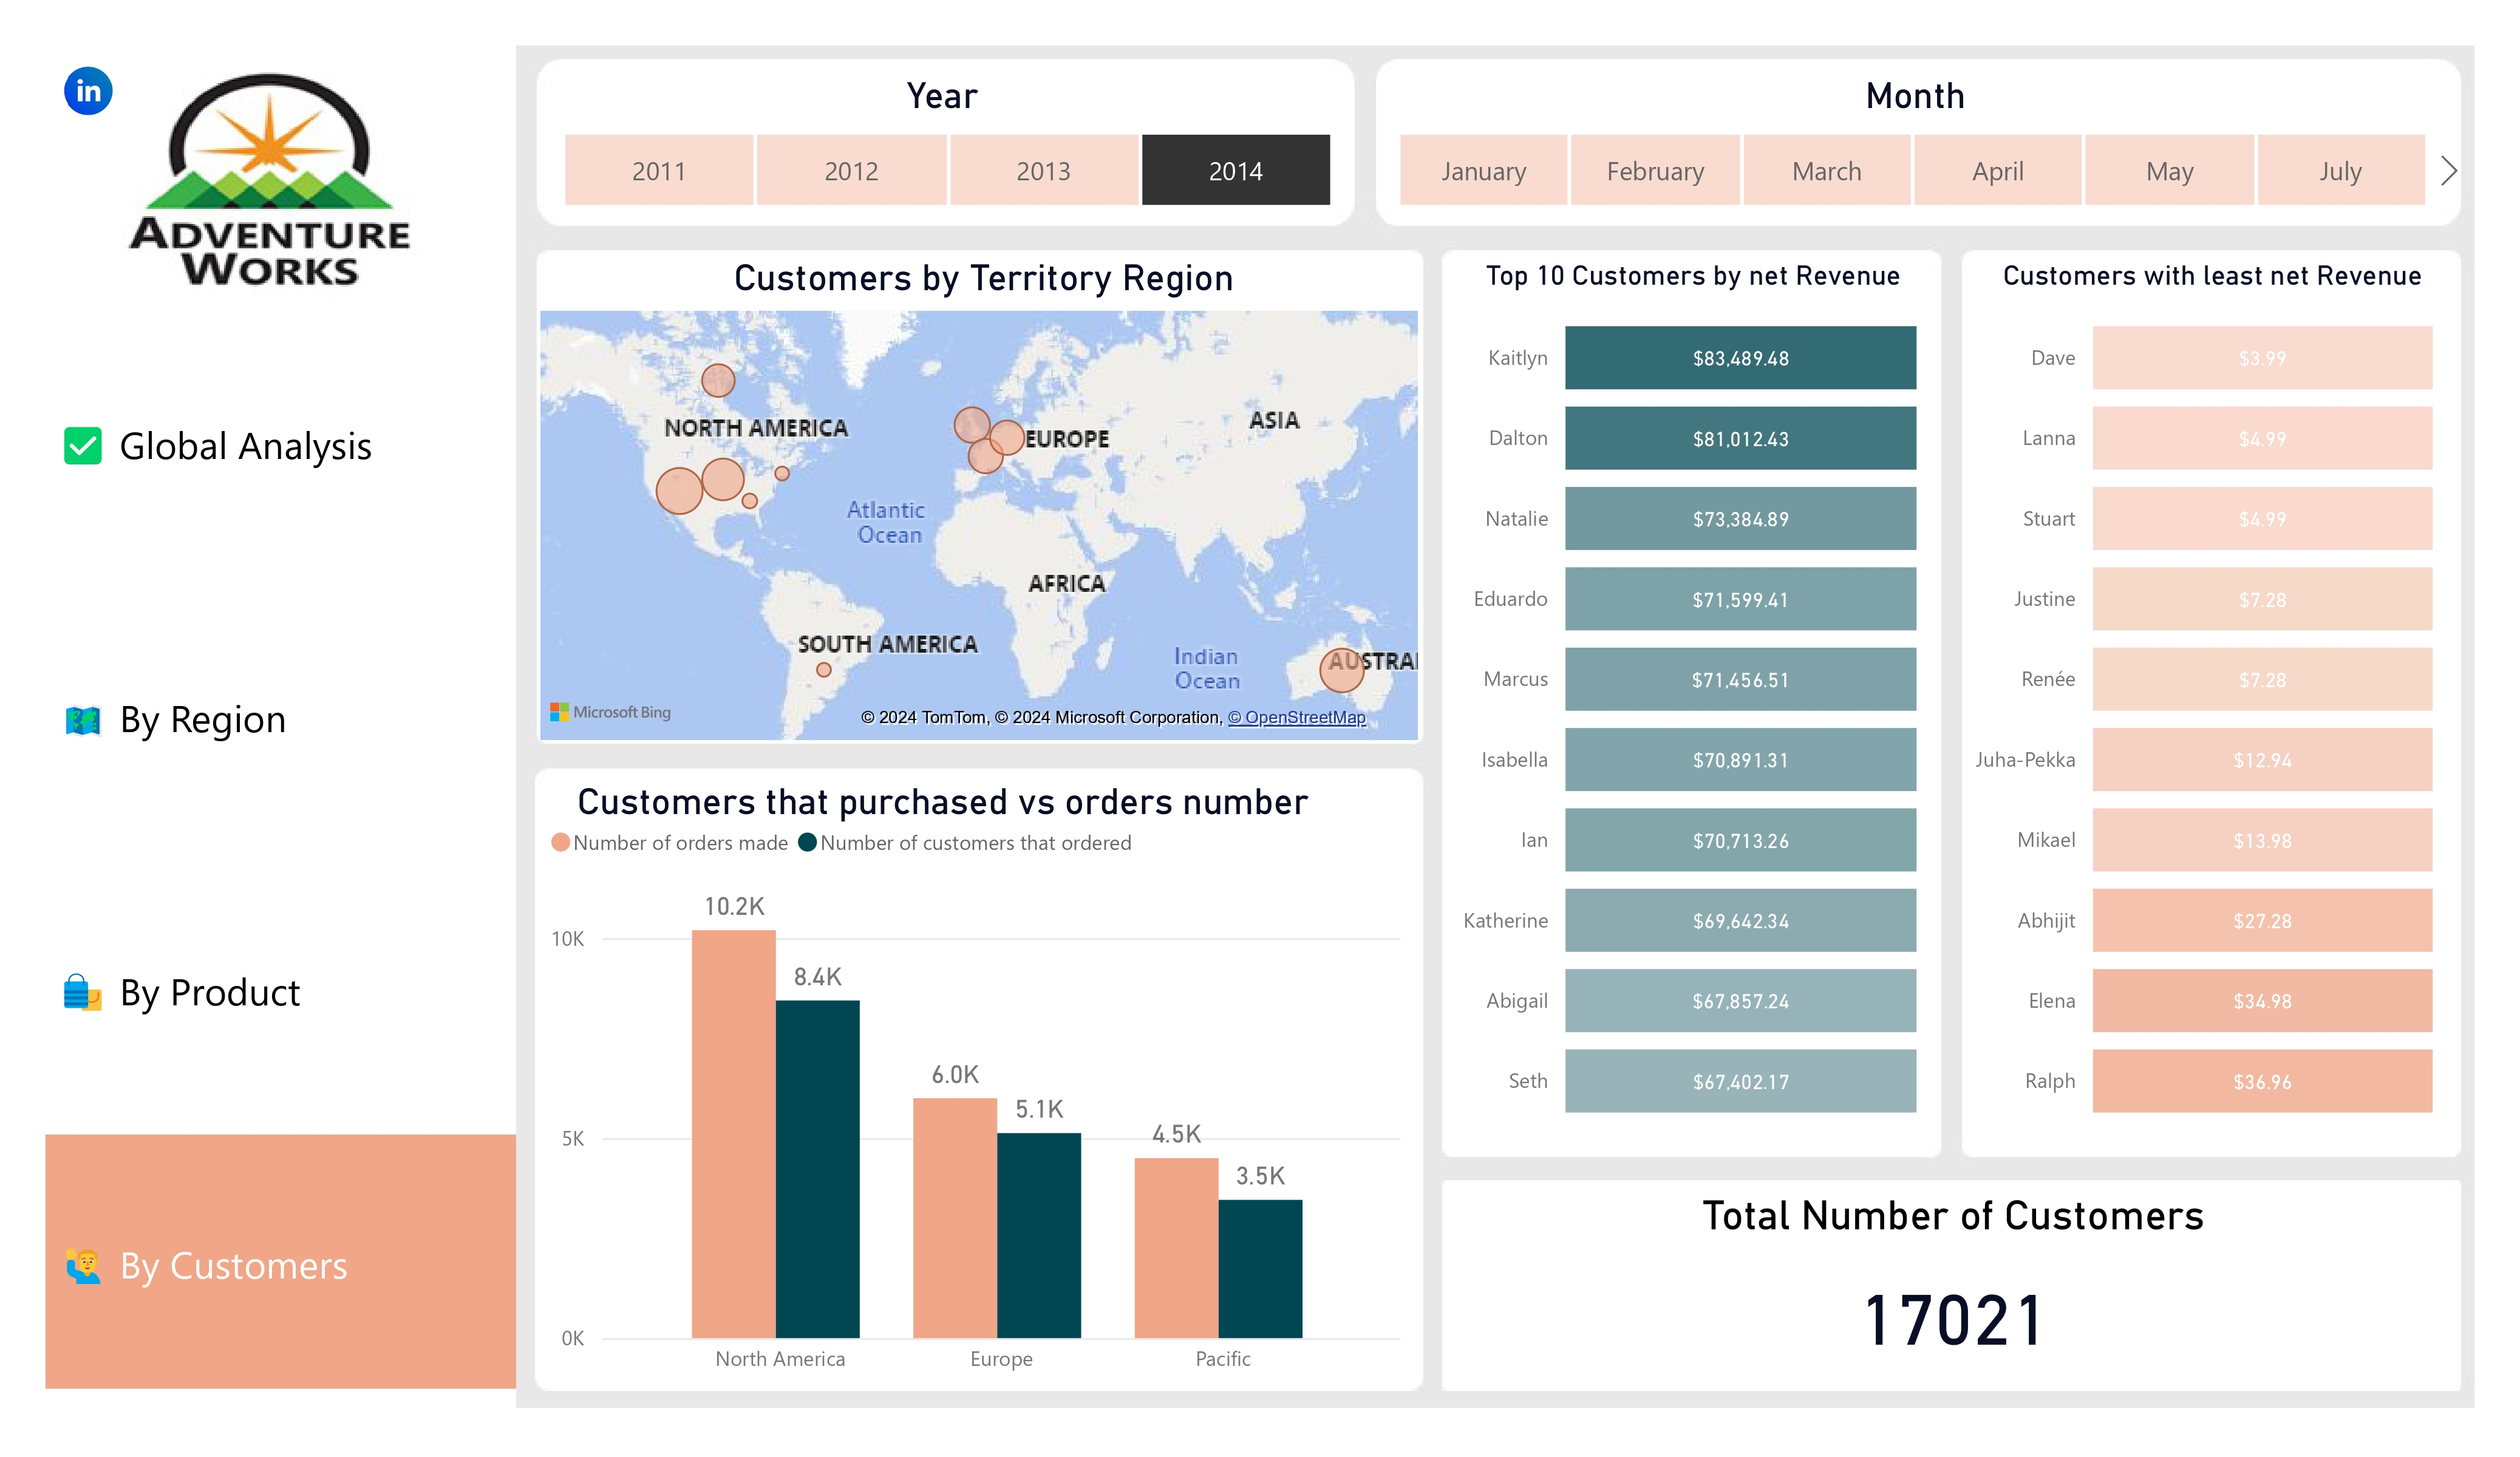

The page's visual inventory and layout, read from the dashboard file:
{"tool":"powerbi","page":{"name":"🙋♂️ By Customers","canvas":[1280,720],"ordinal":3},"visuals":[{"type":"map","fields":{"Size":["FactInternetSales.CustomerKey"],"Category":["DimSalesTerritory.SalesTerritoryRegion"]},"box":[256,135,472,236],"z":0},{"type":"clusteredColumnChart","fields":{"Category":["DimSalesTerritory.SalesTerritoryGroup"],"Y":["FactInternetSales.SalesOrderNumber","FactInternetSales.CustomerKey"]},"box":[261,401,458,309],"z":1000},{"type":"hundredPercentStackedBarChart","fields":{"Y":["FactInternetSales.Total Sales"],"Category":["DimCustomer.FirstName"]},"box":[737,118,254,467],"z":2000},{"type":"hundredPercentStackedBarChart","fields":{"Y":["FactInternetSales.Total Sales"],"Category":["DimCustomer.FirstName"]},"box":[1006,118,257,467],"z":3000},{"type":"card","title":"Total Number of Customers","fields":{"Values":["FactInternetSales.CustomerKey"]},"box":[741,604,529,104],"z":4000},{"type":"slicer","fields":{"Values":["DimDate.FiscalYear"]},"box":[248,40,453,51],"z":5000},{"type":"slicer","fields":{"Values":["DimDate.EnglishMonthName"]},"box":[688,40,590,51],"z":6000},{"type":"pageNavigator","box":[0,142,248,568],"z":7000},{"type":"textbox","box":[260,10,425,37],"z":8000},{"type":"textbox","box":[701,10,569,37],"z":9000},{"type":"textbox","box":[218,382,510,37],"z":10000},{"type":"textbox","box":[261,106,467,36],"z":11000},{"type":"textbox","box":[734,106,269,36],"z":12000},{"type":"textbox","box":[1006,106,272,36],"z":13000},{"type":"image","box":[0,0,45.5,47.3],"z":14000}]}

Visuals, with their boxes on the page's 1280x720 design canvas (x1, y1, x2, y2). These are canvas units, not pixel positions in the 2520x1457 screenshot, which may show the page scaled, cropped or inside an application window:
map - FactInternetSales.CustomerKey x DimSalesTerritory.SalesTerritoryRegion: detection(256, 135, 728, 371)
clusteredColumnChart - DimSalesTerritory.SalesTerritoryGroup x FactInternetSales.SalesOrderNumber: detection(261, 401, 719, 710)
hundredPercentStackedBarChart - FactInternetSales.Total Sales x DimCustomer.FirstName: detection(737, 118, 991, 585)
hundredPercentStackedBarChart - FactInternetSales.Total Sales x DimCustomer.FirstName: detection(1006, 118, 1263, 585)
"Total Number of Customers" card: detection(741, 604, 1270, 708)
slicer - DimDate.FiscalYear: detection(248, 40, 701, 91)
slicer - DimDate.EnglishMonthName: detection(688, 40, 1278, 91)
pageNavigator: detection(0, 142, 248, 710)
textbox: detection(260, 10, 685, 47)
textbox: detection(701, 10, 1270, 47)
textbox: detection(218, 382, 728, 419)
textbox: detection(261, 106, 728, 142)
textbox: detection(734, 106, 1003, 142)
textbox: detection(1006, 106, 1278, 142)
image: detection(0, 0, 46, 47)
